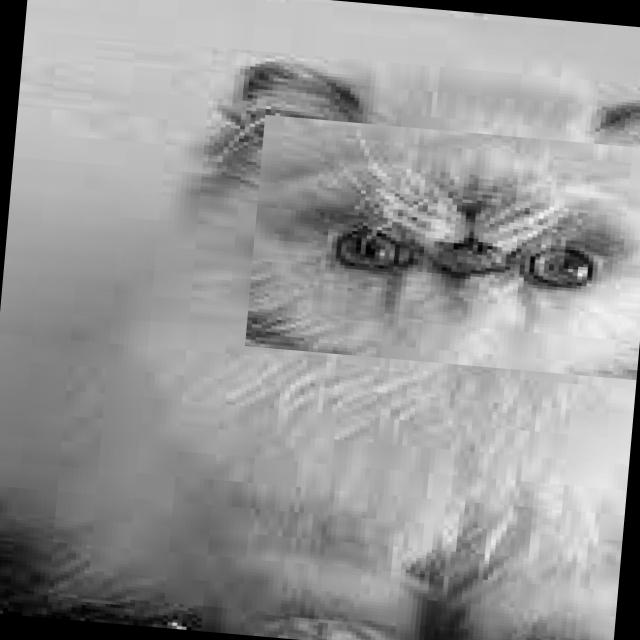iran: (245, 114, 640, 379)
